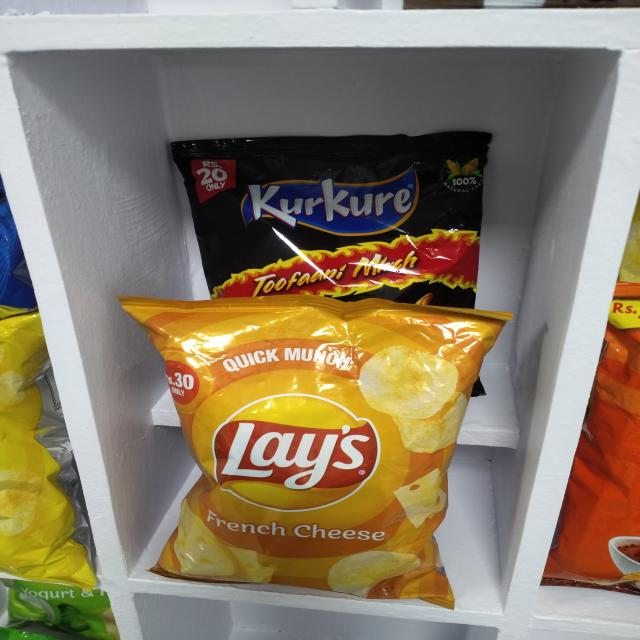Plastic: (148, 304, 480, 597), (179, 128, 488, 300), (563, 327, 640, 587), (0, 320, 75, 568)
